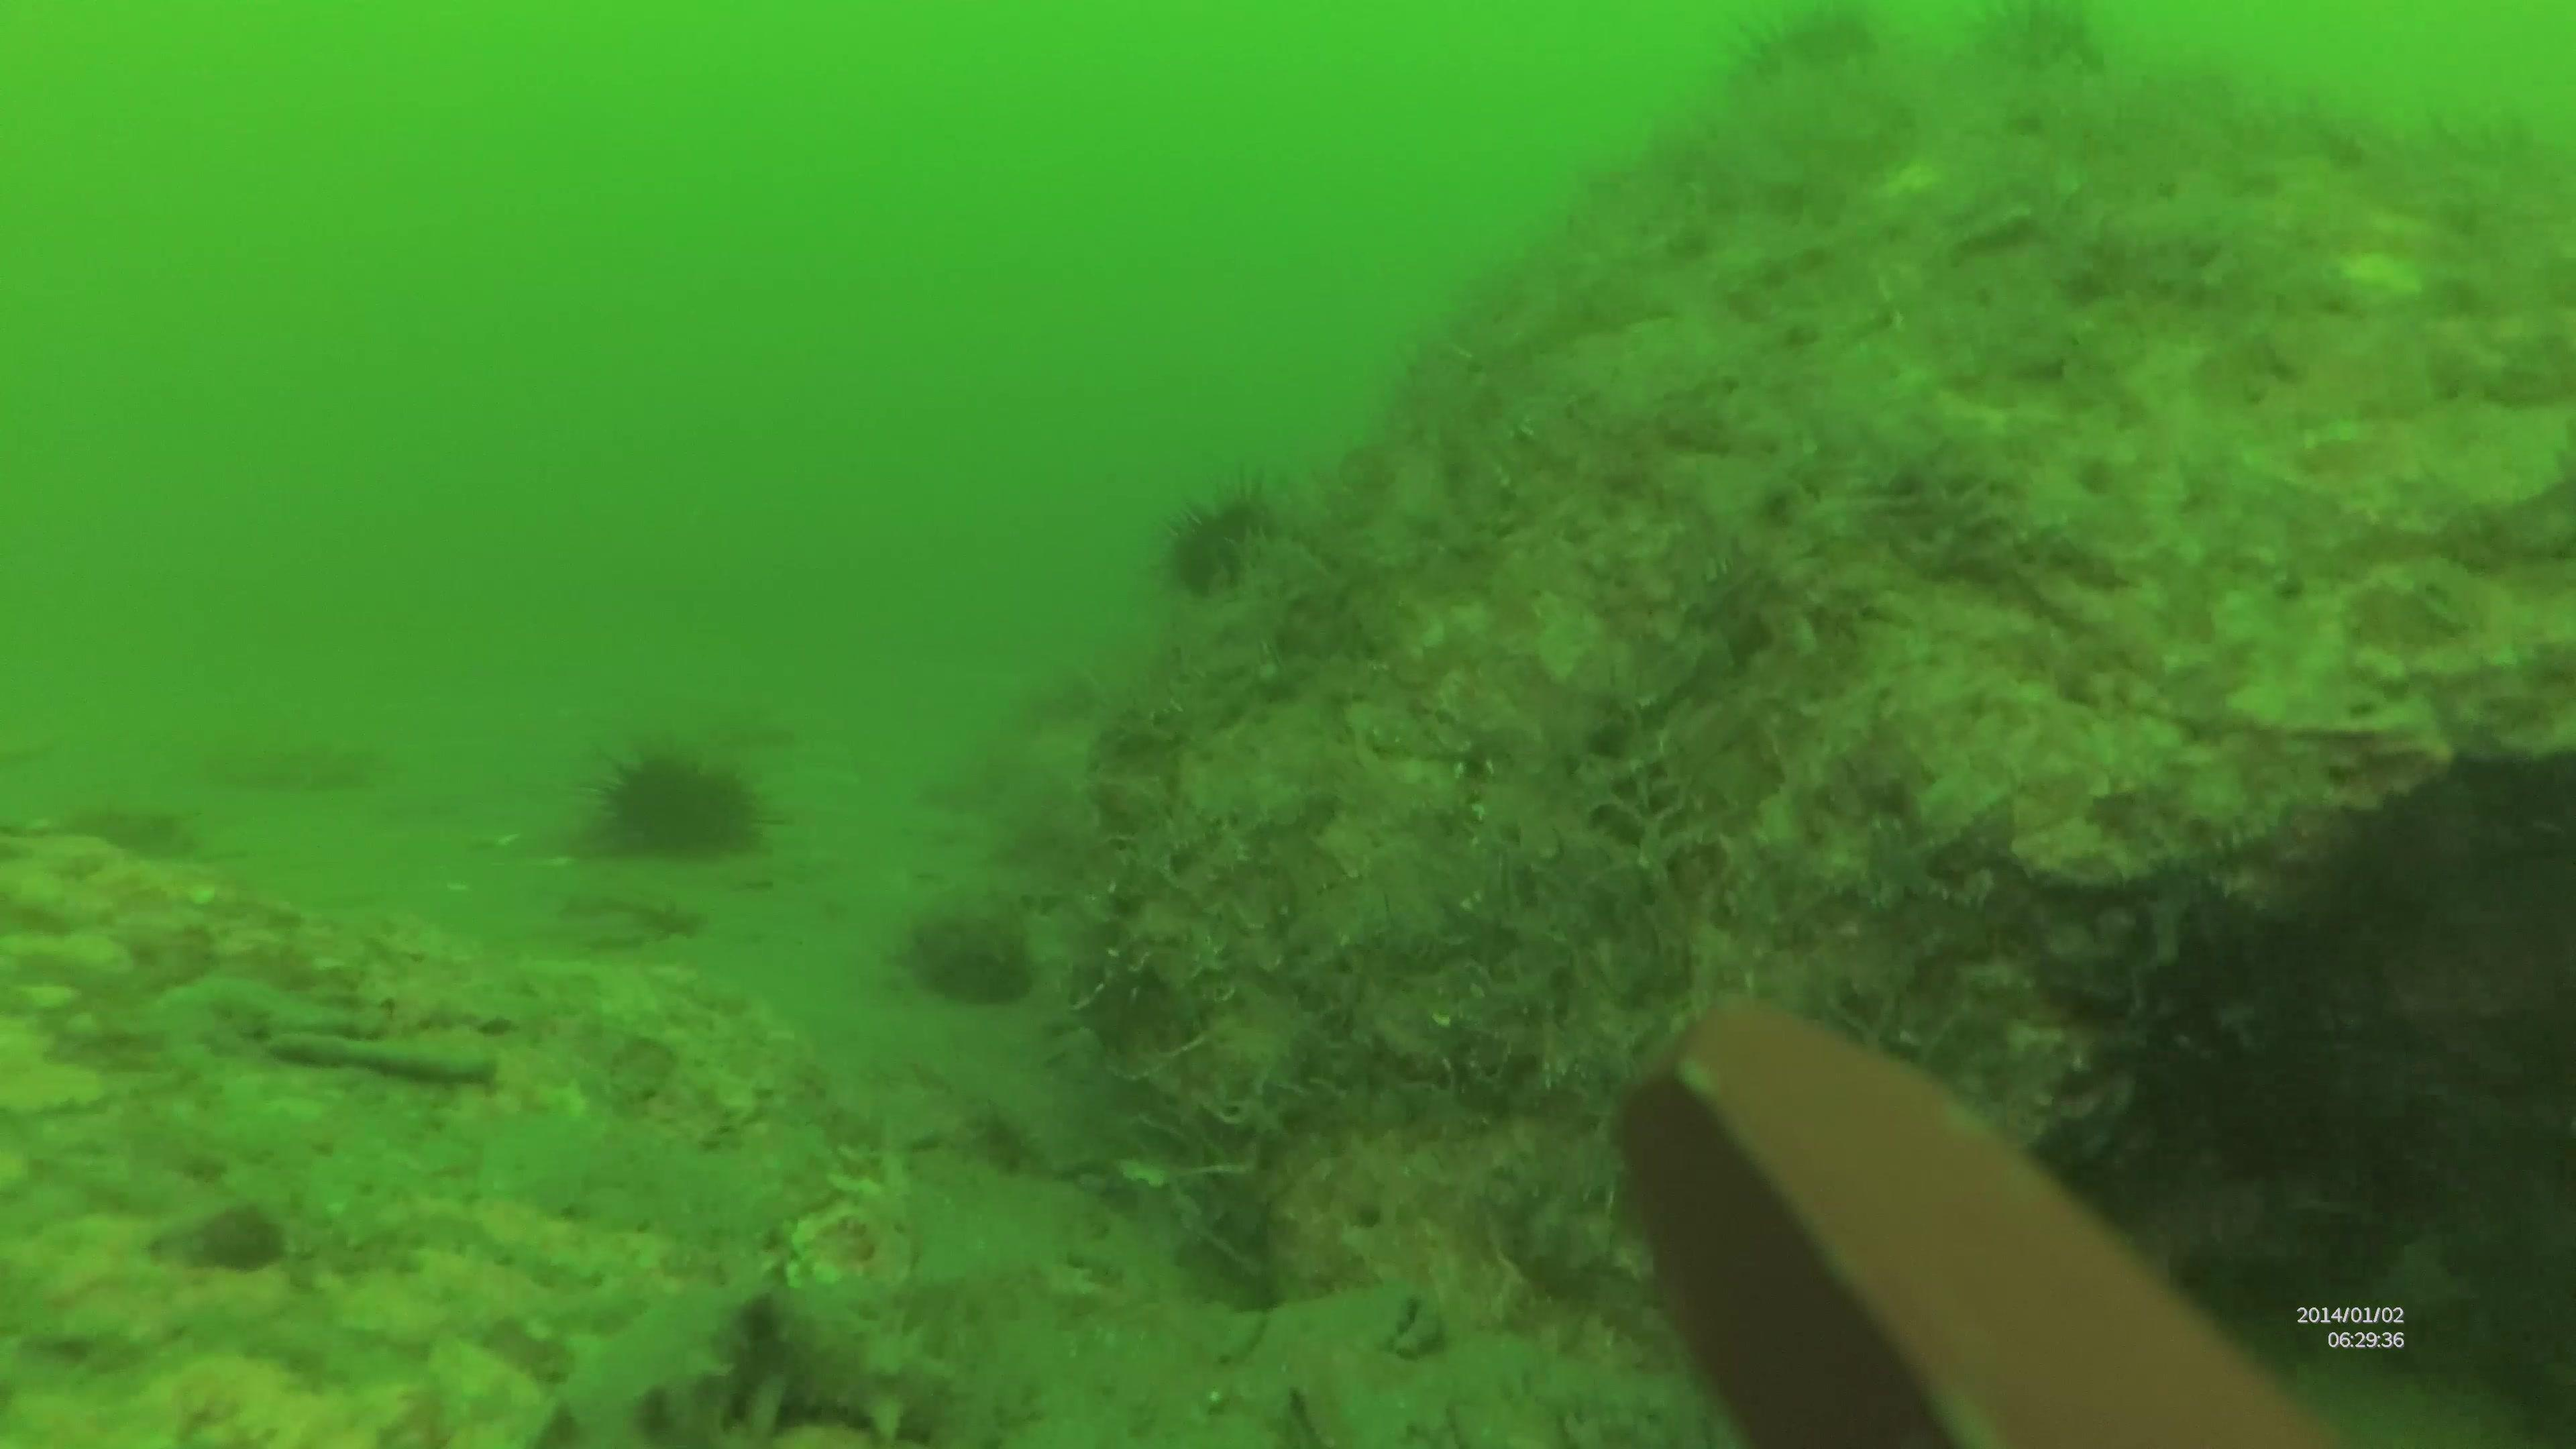echinus: (577, 741, 782, 863), (1161, 469, 1288, 600), (1713, 0, 1890, 90), (1966, 0, 2112, 69)
holothurian: (541, 1279, 961, 1449)
